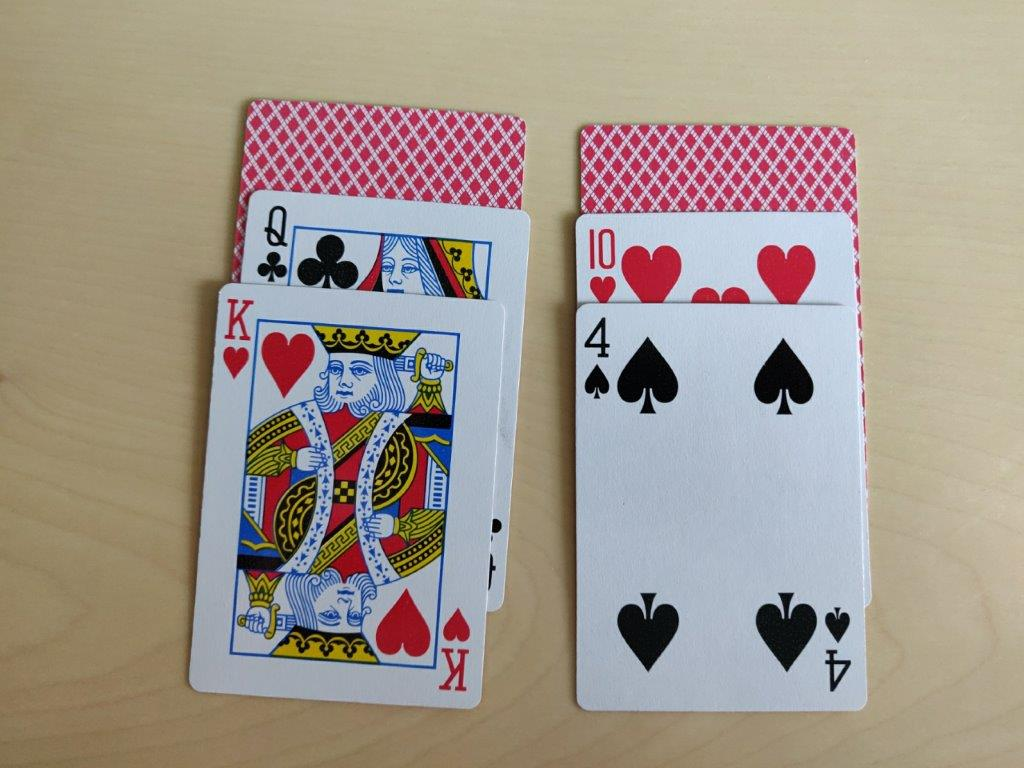10H: (583, 221, 623, 303)
4S: (580, 310, 616, 406)
BACK: (247, 99, 527, 206), (573, 118, 859, 214)
KH: (219, 295, 256, 385)
QC: (252, 202, 293, 284)
